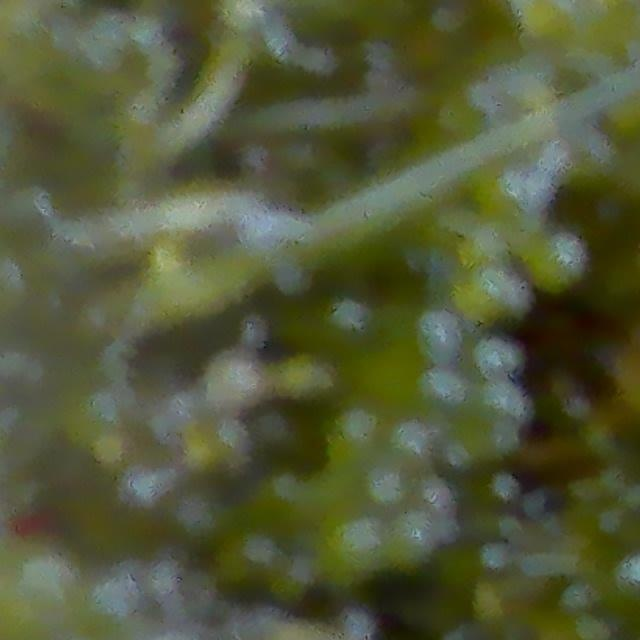SeaGrape: (313, 510, 381, 582), (77, 565, 146, 634), (525, 229, 587, 292), (355, 459, 411, 520), (413, 310, 471, 368), (417, 369, 472, 421), (473, 335, 519, 379)
